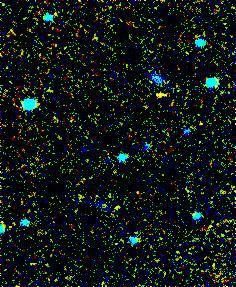star: (147, 80, 177, 110)
